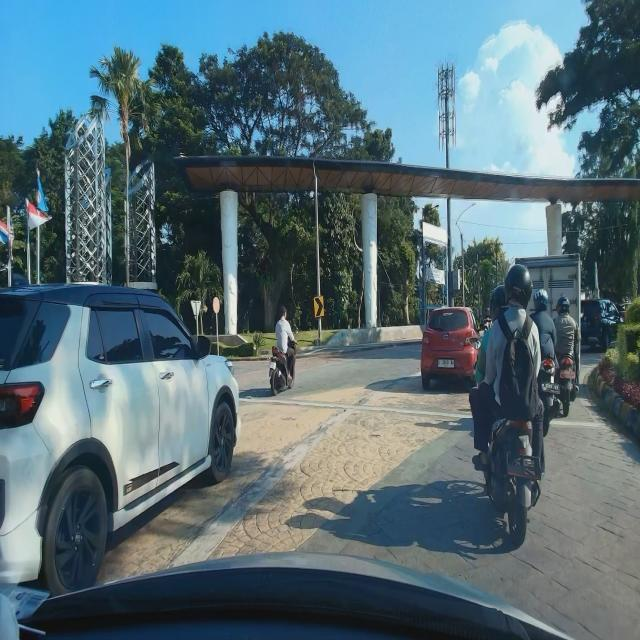car: (420, 302, 480, 388), (580, 295, 625, 354)
license-plate: (438, 359, 454, 368)
truck: (513, 248, 581, 394)
